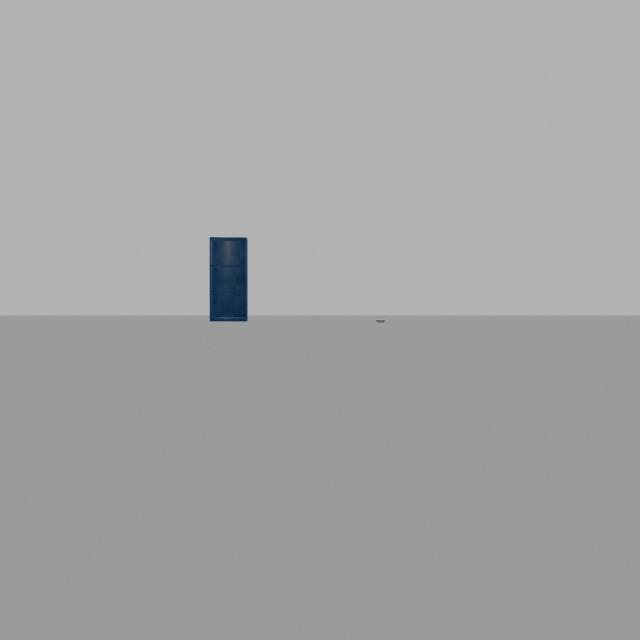bowl: (374, 314, 389, 329)
shelf: (203, 224, 254, 333)
